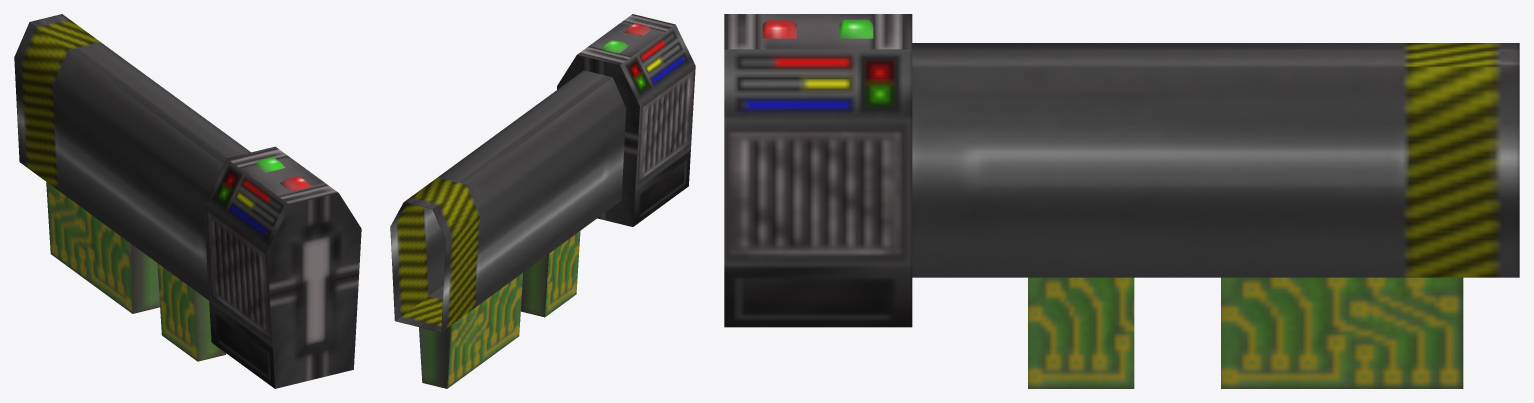
The model's file is acs39.obj.
The picture shows the model from 3 angles, left to right: view 1: azimuth 30°, elevation 25°; view 2: azimuth 150°, elevation 25°; view 3: azimuth 270°, elevation 25°; orthographic projection. The views are drawn at different scales.
Visible parts, largest first — view 1: frm-beam_generator, frm-control_box, frm-l_iface, frm-r_iface, frm-r_emitter, frm-l_emitter; view 2: frm-beam_generator, frm-control_box, frm-l_iface, frm-r_iface; view 3: frm-beam_generator, frm-control_box, frm-l_iface, frm-r_iface, frm-r_emitter, frm-l_emitter.
Boxes of the visible parts, left/top/right/bottom form: frm-beam_generator: left=14, top=14, right=250, bottom=300; frm-control_box: left=203, top=146, right=361, bottom=388; frm-l_iface: left=46, top=182, right=159, bottom=313; frm-r_iface: left=157, top=263, right=226, bottom=361; frm-r_emitter: left=280, top=176, right=311, bottom=191; frm-l_emitter: left=254, top=157, right=285, bottom=172; frm-beam_generator: left=390, top=70, right=625, bottom=332; frm-control_box: left=557, top=14, right=695, bottom=226; frm-l_iface: left=419, top=273, right=523, bottom=388; frm-r_iface: left=521, top=231, right=580, bottom=317; frm-beam_generator: left=912, top=43, right=1519, bottom=277; frm-control_box: left=724, top=14, right=912, bottom=327; frm-l_iface: left=1221, top=277, right=1463, bottom=388; frm-r_iface: left=1028, top=277, right=1134, bottom=388; frm-r_emitter: left=762, top=19, right=796, bottom=38; frm-l_emitter: left=839, top=19, right=873, bottom=38.
Size of the model in its own units: 0.0681 by 0.1645 by 0.3353.
1 material, 1 textured.
